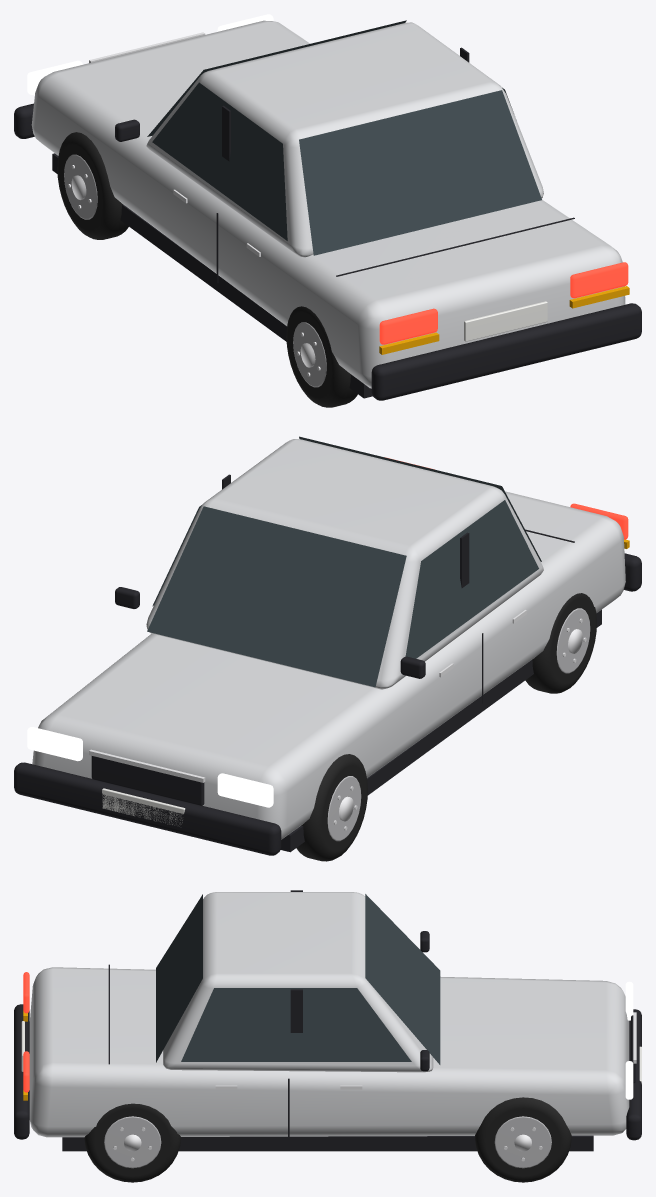
Rendered from car.glb.
3 views of the same model, one above another, from view 1: azimuth 30°, elevation 25°; view 2: azimuth 150°, elevation 25°; view 3: azimuth 270°, elevation 25° (orthographic). The views are drawn at different scales.
Parts seen in each view (by area): view 1: CarBody, Wheel0, Wheel2; view 2: CarBody, Wheel0, Wheel2; view 3: CarBody, Wheel1, Wheel3.
Part boxes in pixels (x1,y1,x2,y2): CarBody: (14, 14, 641, 400); Wheel0: (57, 132, 128, 239); Wheel2: (286, 306, 357, 407); CarBody: (14, 436, 641, 855); Wheel0: (296, 754, 367, 861); Wheel2: (525, 593, 596, 693); CarBody: (14, 890, 641, 1151); Wheel1: (475, 1097, 571, 1182); Wheel3: (84, 1103, 180, 1182).
Bounding box in the file's own units: 1.94 × 1.4 × 4.02.
